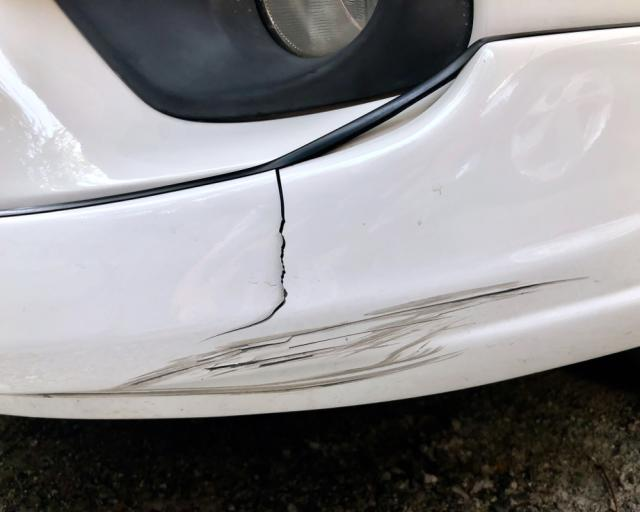crack: (196, 169, 288, 344)
dent: (504, 67, 611, 177)
scratch: (19, 278, 586, 399)
